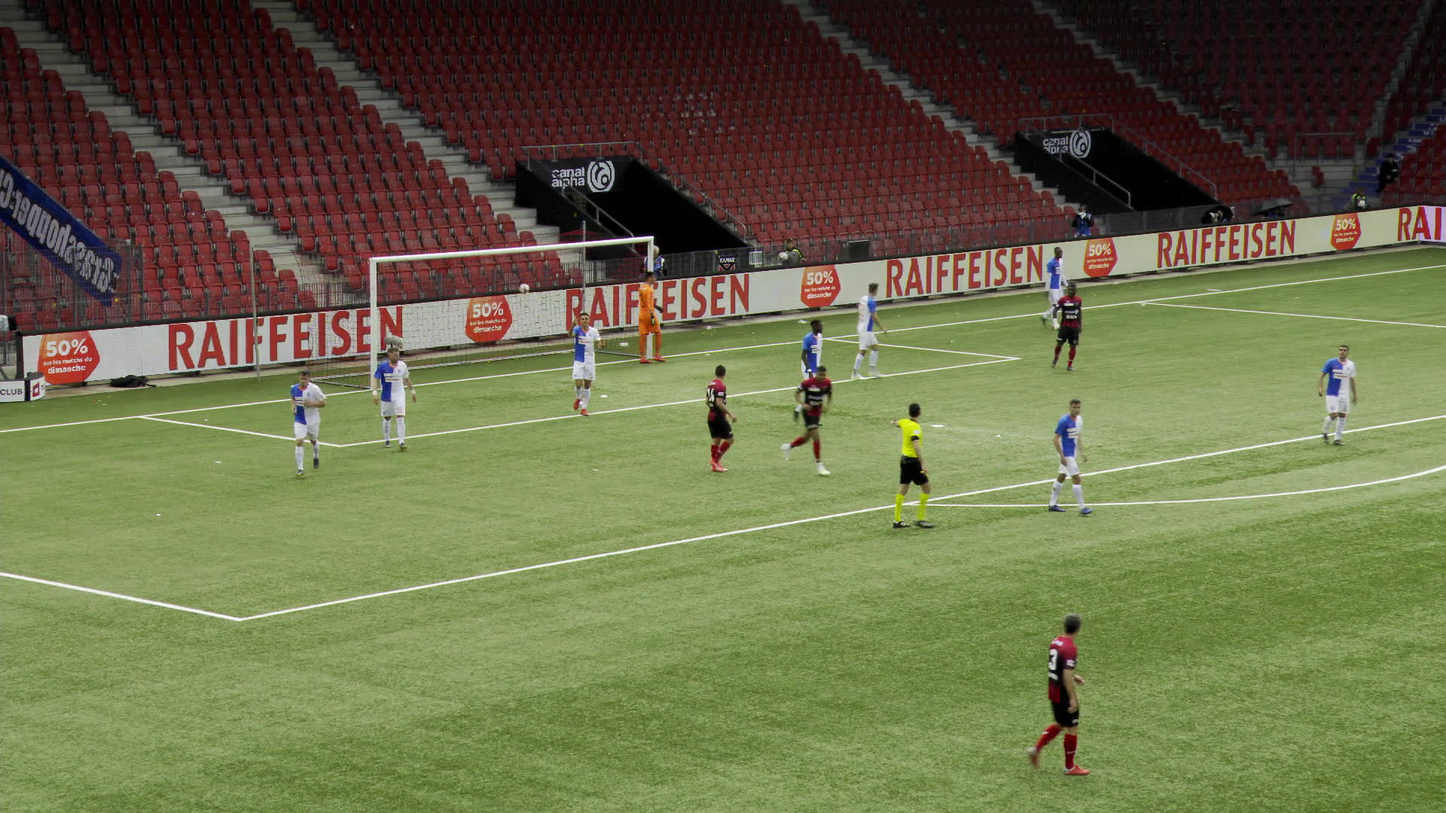ball: (519, 285, 529, 293)
player: (1027, 613, 1087, 775), (779, 364, 831, 474), (1048, 399, 1091, 513), (373, 346, 416, 448), (566, 312, 607, 414), (1316, 345, 1355, 446), (291, 371, 327, 478), (850, 283, 886, 380), (706, 364, 735, 472), (793, 318, 822, 423), (1051, 282, 1082, 370), (638, 270, 663, 365), (1041, 246, 1068, 330)
referee: (888, 402, 934, 528)
